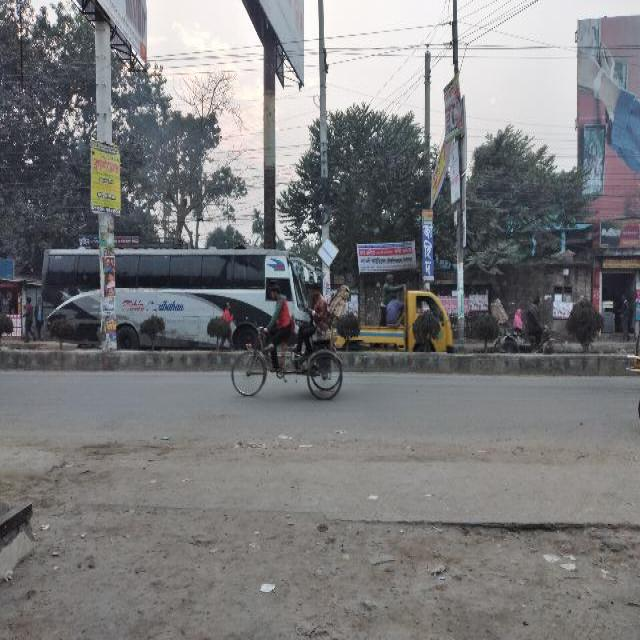bus: (33, 244, 310, 349)
motorcycle: (229, 282, 344, 406), (486, 293, 562, 355)
truck: (333, 283, 456, 349)
